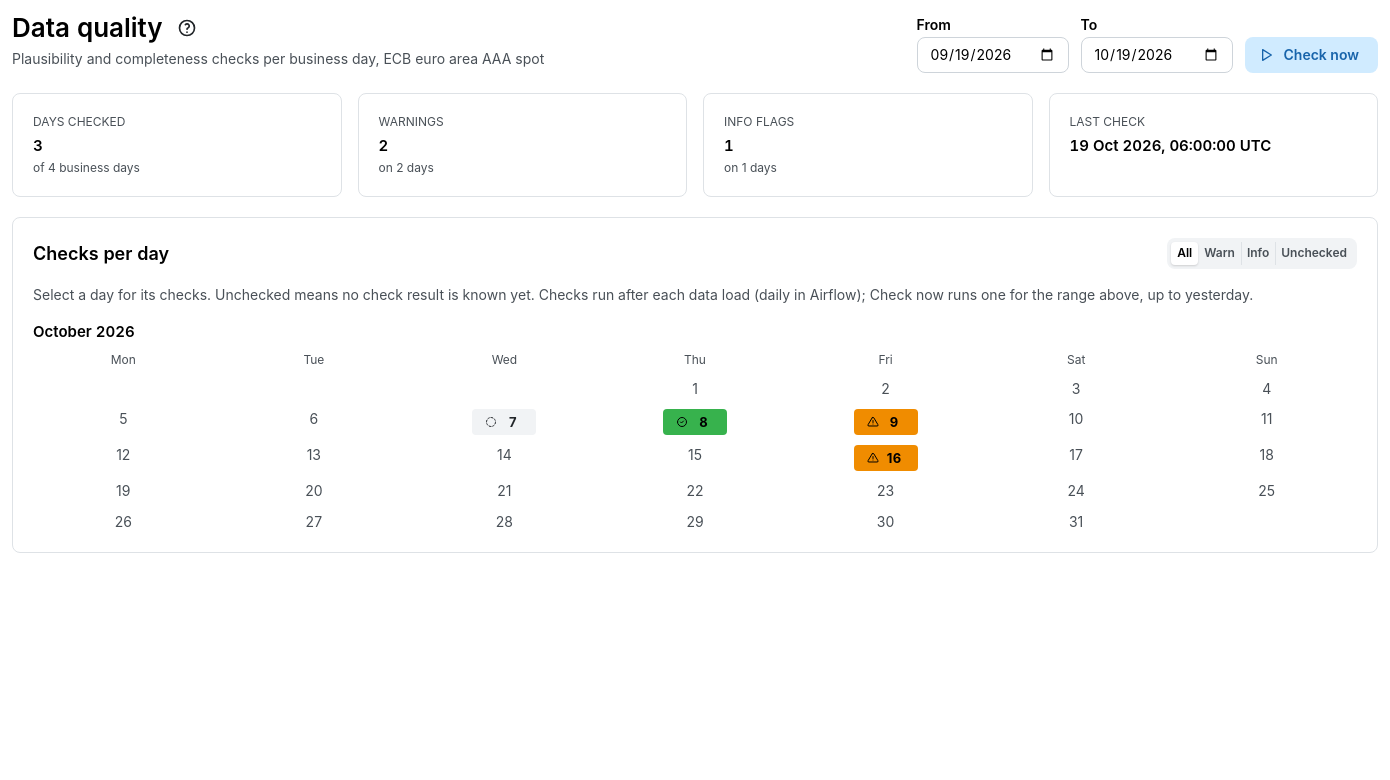
Scenario: QualityView › range over 366 days shows the error and does not fetch
The width and height of the screenshot is (1390, 780).
Expected: the button named "2026-10-16, Warn" is shown, [854, 445, 918, 471]
Type "2025-10-16" into the date field labelled "From" at {"x": 992, "y": 55}, box [916, 37, 1068, 73]
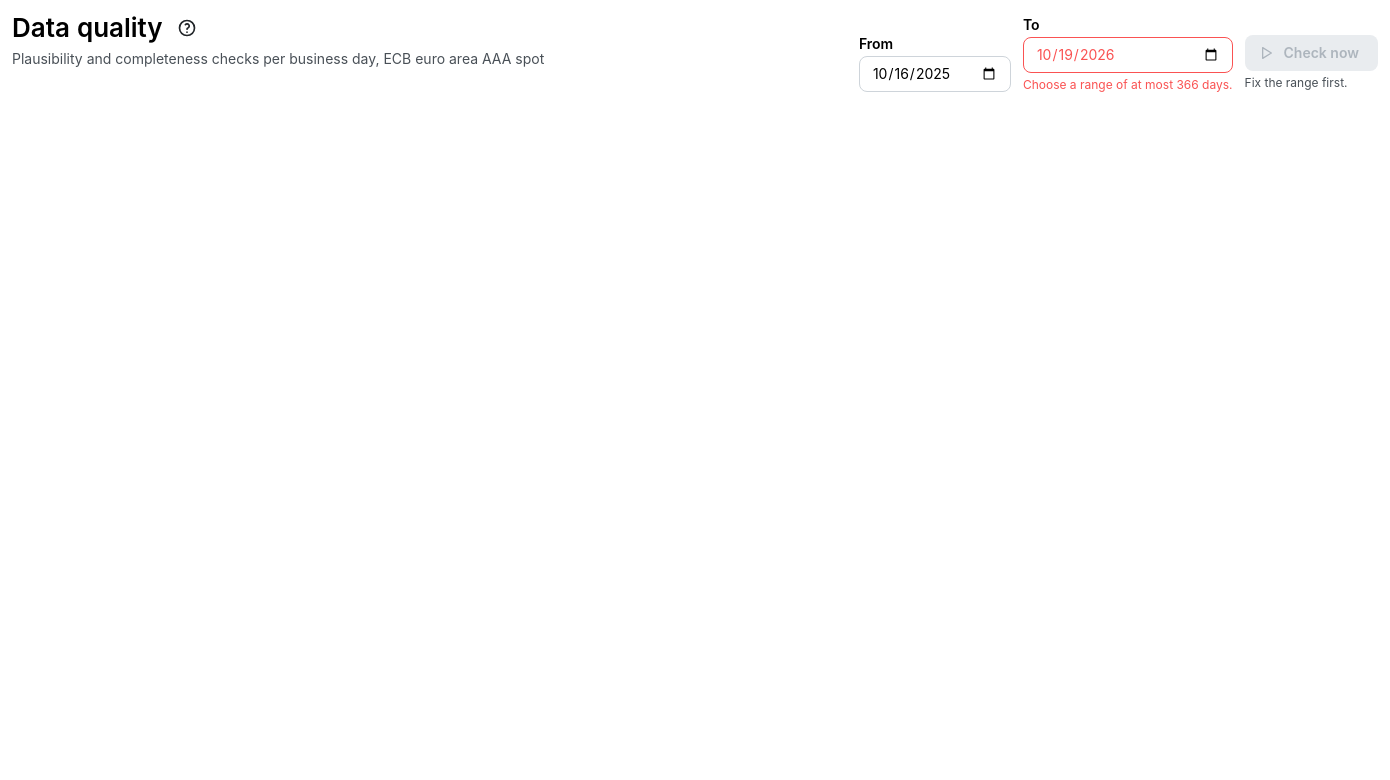
Expected: the text "Choose a range of at most 366 days." is shown, [1023, 78, 1233, 92]
